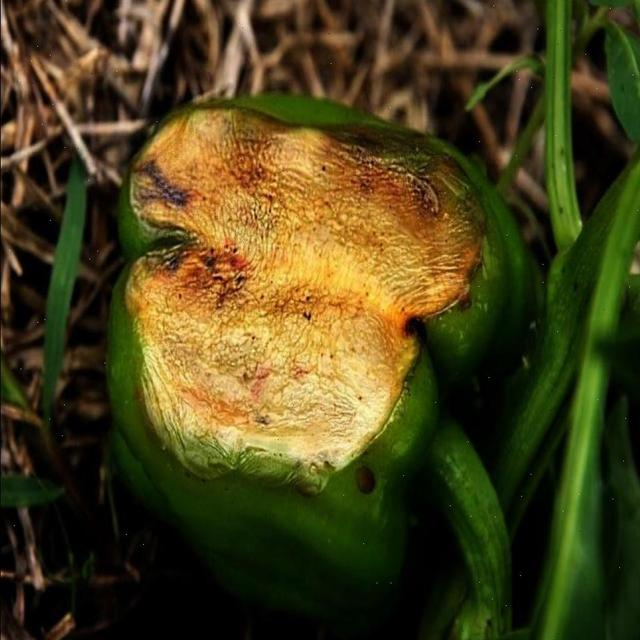Sunscald Fruit: (86, 56, 318, 345)
